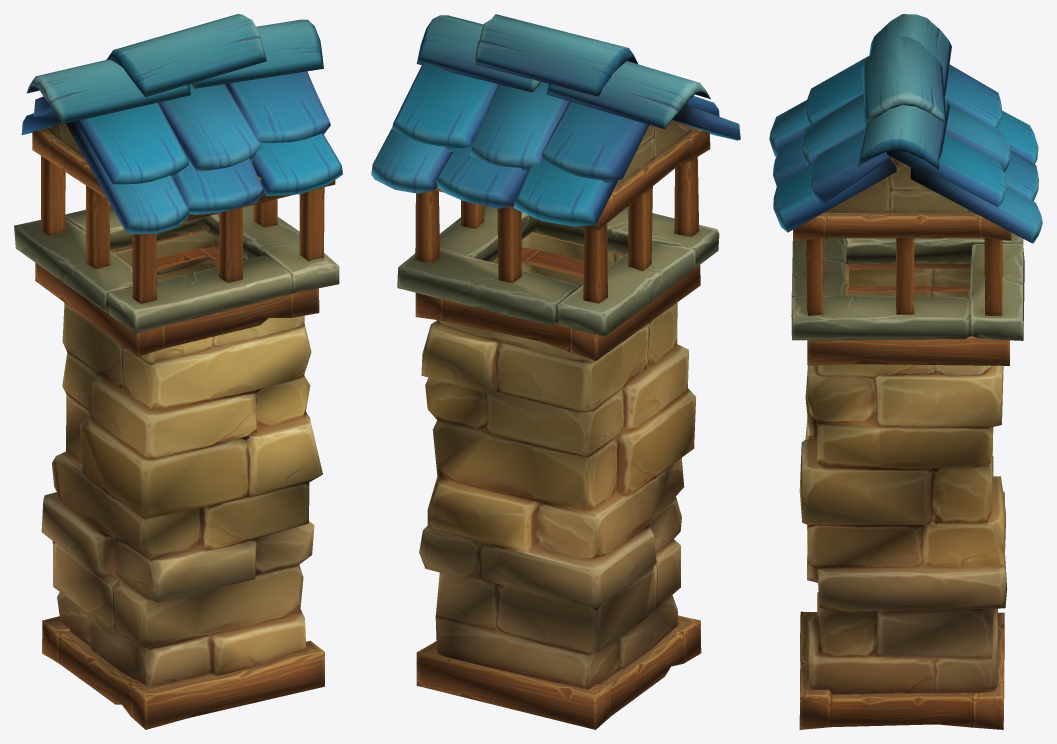
File: Fireplace_chimney.gltf
The picture shows the model from 3 angles, left to right: view 1: azimuth 30°, elevation 25°; view 2: azimuth 150°, elevation 25°; view 3: azimuth 270°, elevation 25°; orthographic projection. The views are drawn at different scales.
Parts seen in each view (by area): view 1: Fireplace_chimney; view 2: Fireplace_chimney; view 3: Fireplace_chimney.
Boxes of the visible parts, x1,y1,x2,y2 form: Fireplace_chimney: [14, 14, 342, 729]; Fireplace_chimney: [371, 14, 740, 729]; Fireplace_chimney: [769, 14, 1042, 729].
Size of the model in its own units: 1.44 by 3.25 by 1.29.
1 material, 1 textured.
